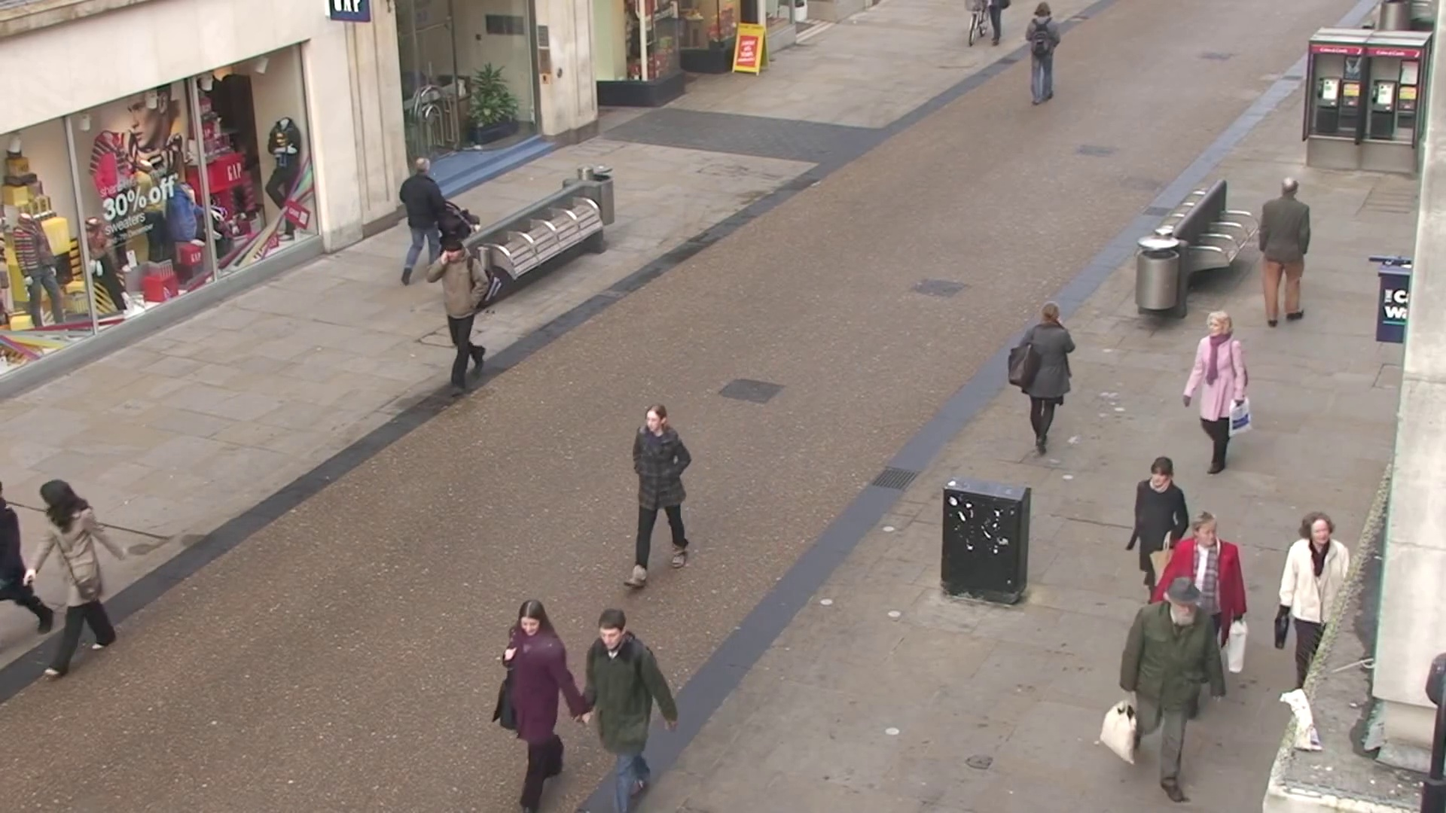person: (1121, 577, 1228, 802), (493, 598, 589, 813), (581, 607, 680, 810), (1271, 513, 1351, 747), (29, 480, 117, 675), (1160, 511, 1250, 671), (629, 406, 694, 577), (1182, 312, 1248, 477), (1009, 301, 1076, 458), (429, 236, 492, 391), (396, 155, 468, 286), (1127, 452, 1191, 599), (1257, 174, 1312, 328), (1026, 2, 1061, 105)
